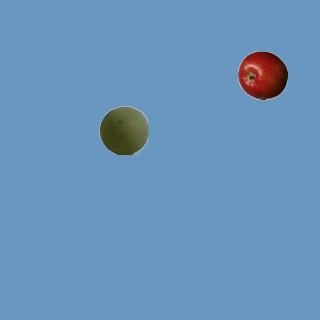Apple Braeburn: (237, 50, 287, 100)
Grape White 4: (98, 105, 148, 155)
